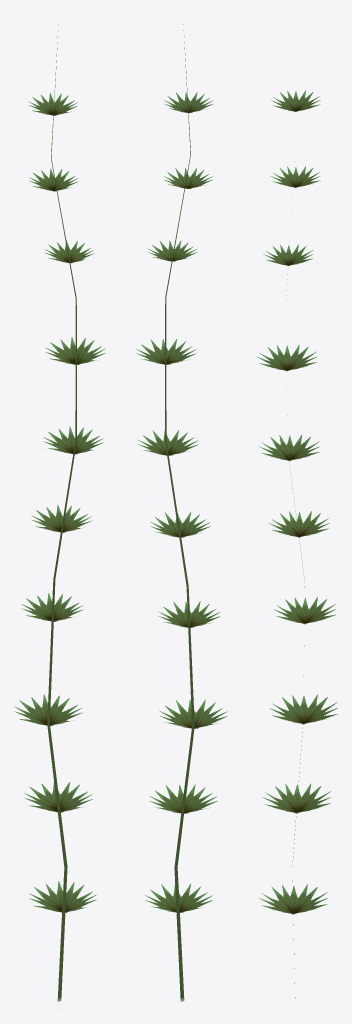
File: SeaWeed_01.FBX
3 renders of one model, left to right at view 1: azimuth 30°, elevation 25°; view 2: azimuth 210°, elevation 25°; view 3: azimuth 270°, elevation 25°, orthographic.
Visible parts, largest first — view 1: SeaWeed_01; view 2: SeaWeed_01; view 3: SeaWeed_01.
Boxes of the visible parts, x1,y1,x2,y2 form: SeaWeed_01: (14,24,105,1009); SeaWeed_01: (136,24,227,1001); SeaWeed_01: (256,90,337,998).
Size of the model in its own units: 13.38 by 151 by 11.27.
